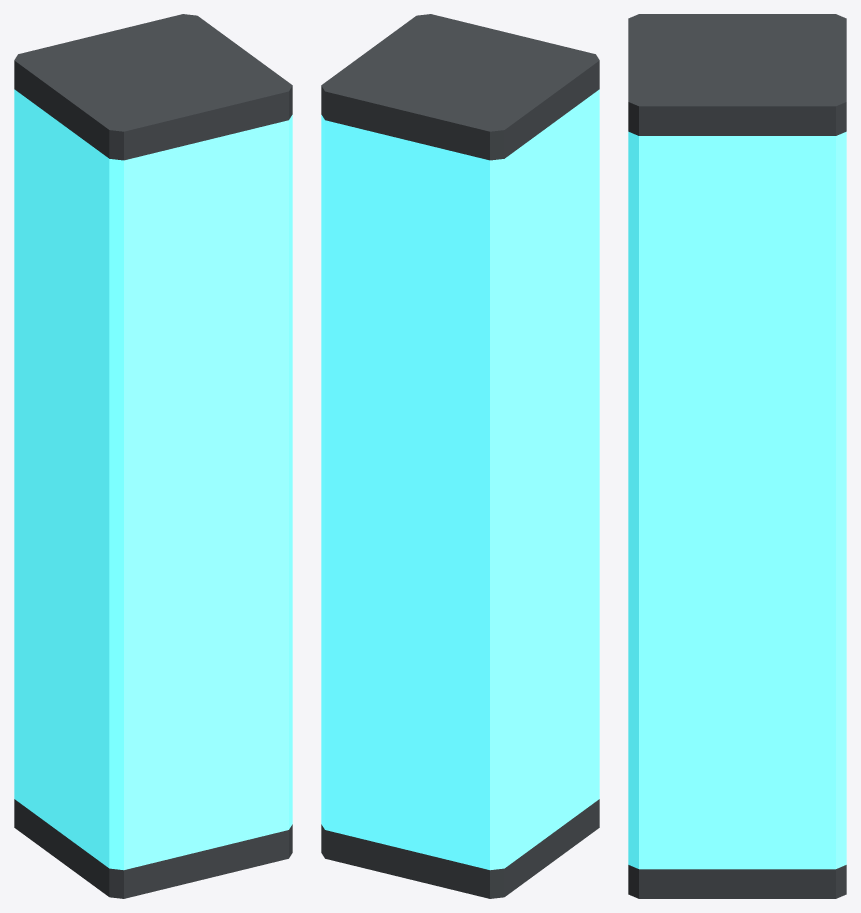
File: ENV_MOD_05_CoverPillar.glb
The picture shows the model from 3 angles, left to right: view 1: azimuth 30°, elevation 25°; view 2: azimuth 150°, elevation 25°; view 3: azimuth 270°, elevation 25°; orthographic projection. The views are drawn at different scales.
Visible parts, largest first — view 1: SM_ENV_MOD_05_CoverPillar; view 2: SM_ENV_MOD_05_CoverPillar; view 3: SM_ENV_MOD_05_CoverPillar.
Part boxes in pixels (box(x1,y1,x2,y2)): SM_ENV_MOD_05_CoverPillar: box(14, 14, 292, 898); SM_ENV_MOD_05_CoverPillar: box(321, 14, 599, 898); SM_ENV_MOD_05_CoverPillar: box(628, 14, 846, 898).
Size of the model in its own units: 1 by 4 by 1.
